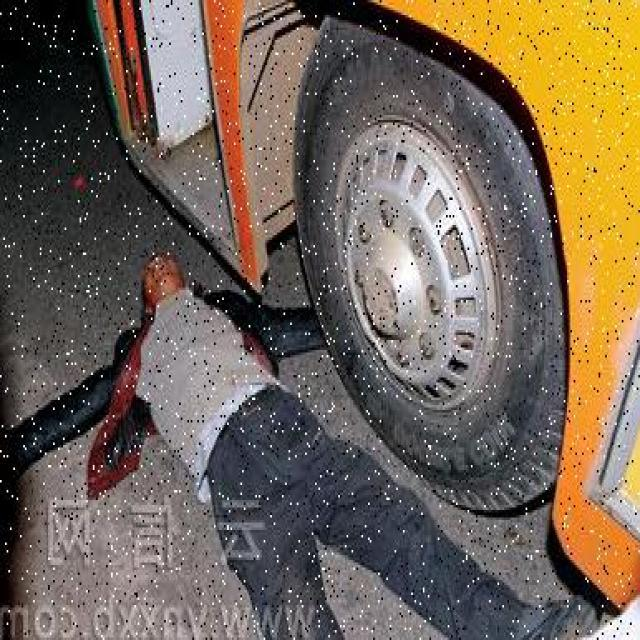fall: (96, 248, 314, 638)
